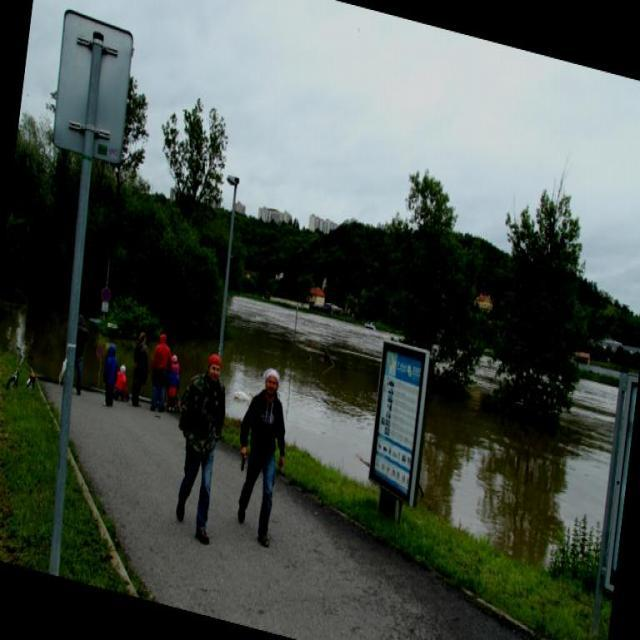flood: (209, 308, 604, 566)
